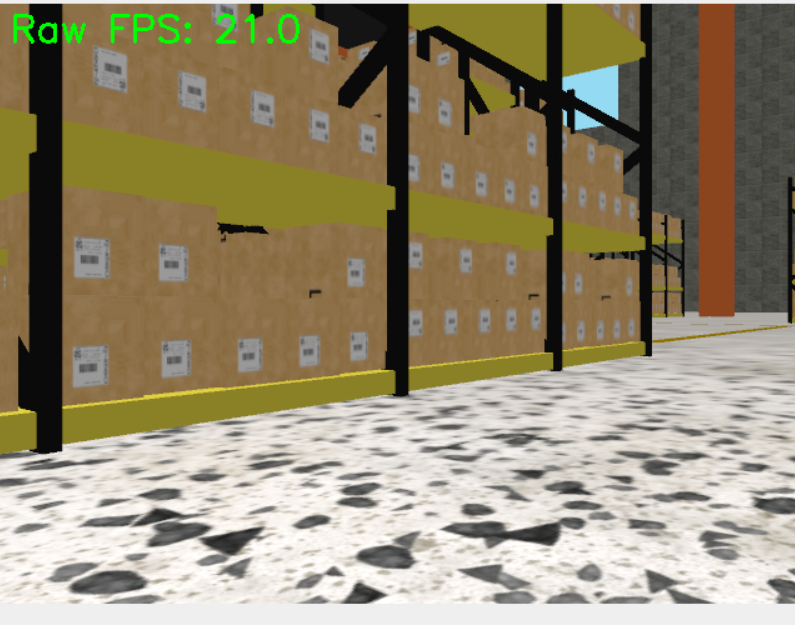barcode: (71, 235, 112, 280), (92, 46, 129, 94), (71, 343, 110, 387), (176, 70, 208, 113), (158, 339, 193, 377), (157, 242, 189, 282), (249, 90, 276, 128), (235, 337, 263, 373), (309, 28, 330, 65), (298, 335, 320, 368), (309, 109, 330, 143), (345, 256, 366, 290), (347, 331, 369, 361), (358, 123, 377, 154), (408, 241, 425, 271), (437, 99, 454, 128), (439, 162, 455, 189), (408, 309, 424, 336), (474, 170, 488, 200), (444, 309, 459, 335), (459, 248, 473, 274), (478, 308, 492, 334), (503, 179, 516, 205), (505, 307, 518, 333), (505, 251, 518, 275), (531, 308, 543, 333), (529, 186, 541, 209), (527, 133, 538, 158)
